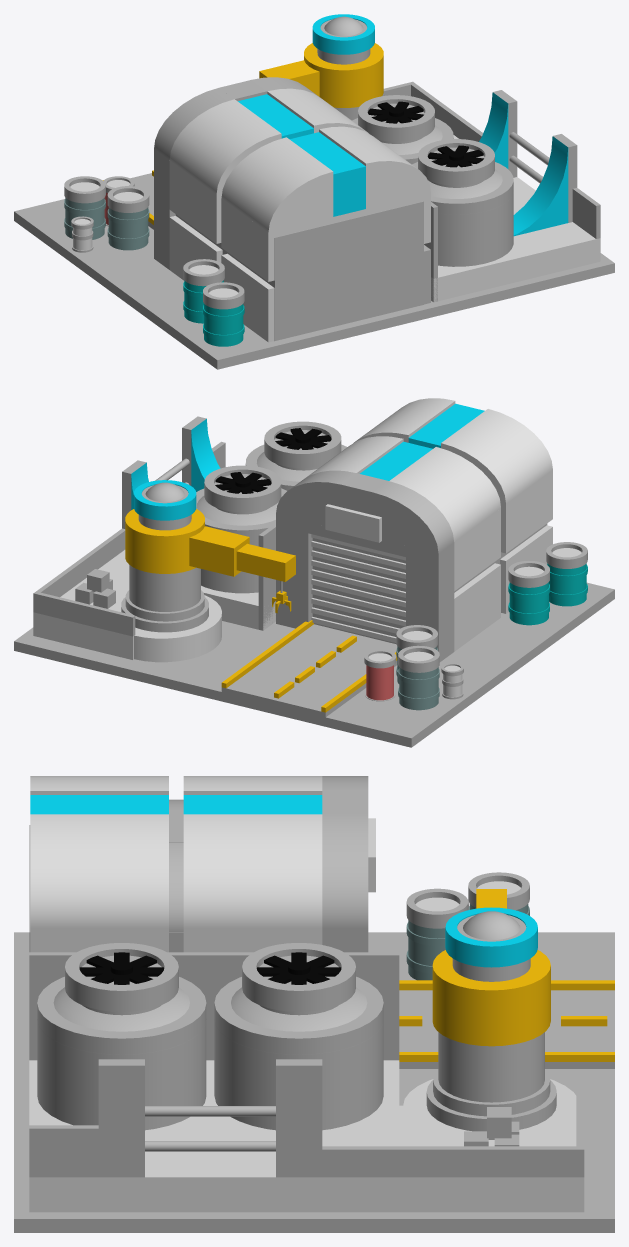
3 views of the same model, one above another, from view 1: azimuth 30°, elevation 25°; view 2: azimuth 150°, elevation 25°; view 3: azimuth 270°, elevation 25° (orthographic). The views are drawn at different scales.
Visible parts, largest first — view 1: box_108, box_60, quarterCylinder_46, box_95, quarterCylinder_47, cylinder_94, quarterCylinder_40, cylinder_61, circleWedge_82, box_107, box_38, annulus_92 (+32 smaller); view 2: box_60, box_32, quarterCylinder_46, quarterCylinder_47, quarterCylinder_126, box_37, box_115, cylinder_61, box_50, cylinder_65, box_36, box_39 (+51 smaller); view 3: box_60, box_95, quarterCylinder_41, quarterCylinder_40, cylinder_86, cylinder_94, box_50, cylinder_61, box_66, box_96, cylinder_62, box_32 (+35 smaller).
Boxes of the visible parts, box(x1,y1,x2,y2) form: box_108: box(175, 201, 423, 340); box_60: box(14, 199, 614, 369); quarterCylinder_46: box(221, 137, 333, 232); box_95: box(431, 177, 600, 302); quarterCylinder_47: box(169, 99, 281, 194); cylinder_94: box(412, 162, 513, 266); quarterCylinder_40: box(319, 126, 430, 208); cylinder_61: box(304, 43, 383, 107); circleWedge_82: box(513, 136, 568, 236); box_107: box(290, 132, 365, 216); box_38: box(221, 253, 274, 342); annulus_92: box(418, 139, 494, 185); box_60: box(14, 582, 614, 747); box_32: box(226, 624, 397, 715); quarterCylinder_46: box(441, 409, 552, 504); quarterCylinder_47: box(389, 447, 500, 541); quarterCylinder_126: box(373, 481, 453, 553); box_37: box(406, 554, 454, 662); box_115: box(312, 538, 405, 644); cylinder_61: box(125, 509, 204, 573); box_50: box(33, 567, 141, 659); cylinder_65: box(108, 595, 221, 662); box_36: box(276, 525, 312, 628); box_39: box(454, 563, 500, 651); box_60: box(14, 932, 614, 1232); box_95: box(29, 1060, 399, 1212); quarterCylinder_41: box(183, 814, 322, 928); quarterCylinder_40: box(30, 814, 168, 928); cylinder_86: box(214, 976, 383, 1130); cylinder_94: box(37, 976, 206, 1130); box_50: box(399, 1105, 584, 1212); cylinder_61: box(432, 950, 550, 1046); box_66: box(322, 1146, 584, 1177); box_96: box(29, 952, 399, 1060); cylinder_62: box(438, 1032, 544, 1102); box_32: box(399, 990, 614, 1051).
Size of the model in its own units: 88 by 34.8 by 78.
